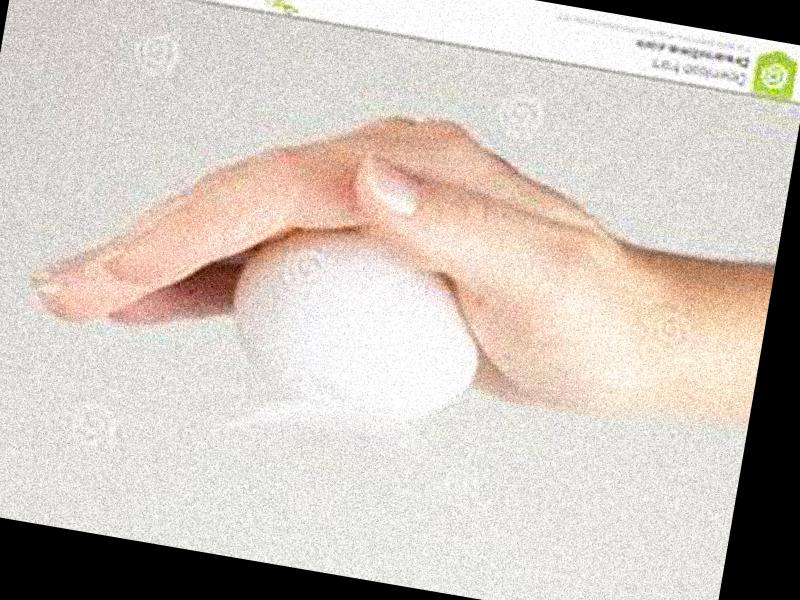Eggs: (215, 215, 497, 429)
